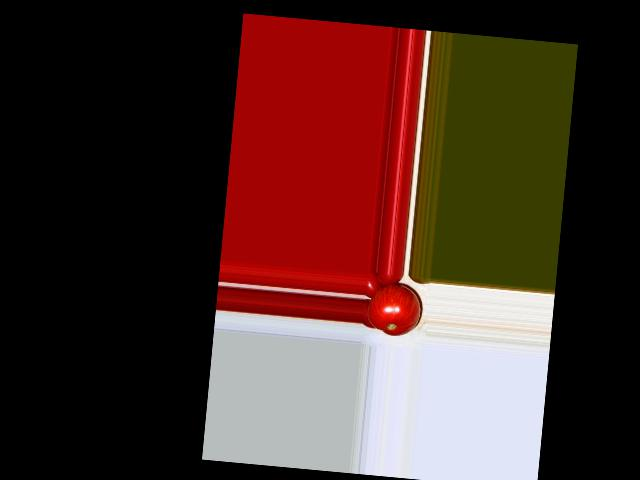tomato: (365, 281, 423, 338)
